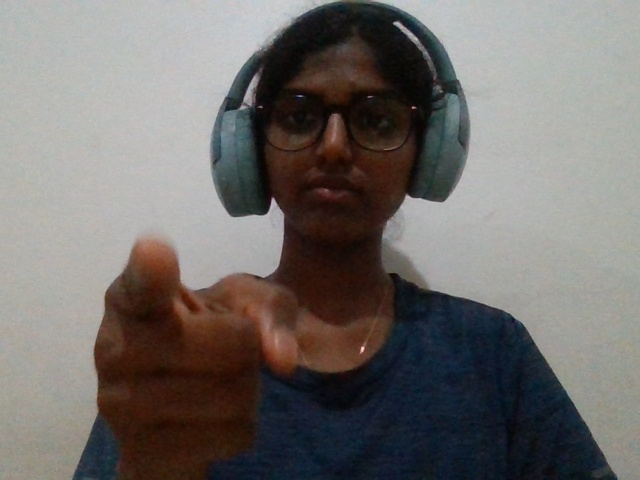You: (71, 231, 341, 479)
